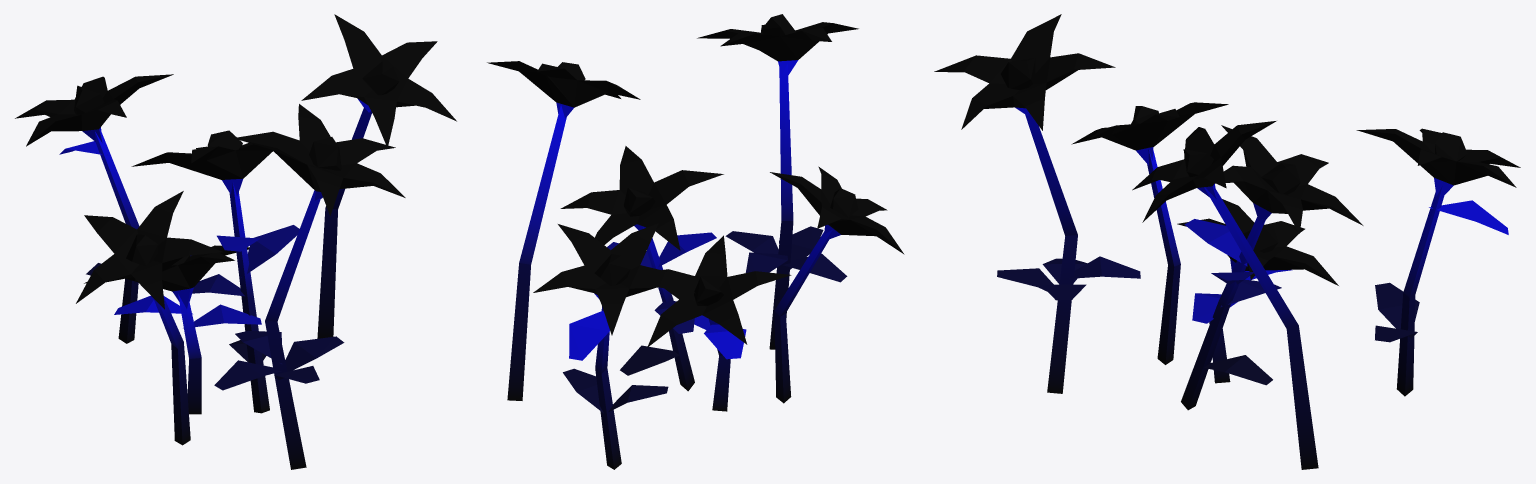
Rendered from PatchSpud05.fbx.
3 views of the same model, side by side, from view 1: azimuth 30°, elevation 25°; view 2: azimuth 150°, elevation 25°; view 3: azimuth 270°, elevation 25° (orthographic). The views are drawn at different scales.
Visible parts, largest first — view 1: PatchSpud05; view 2: PatchSpud05; view 3: PatchSpud05.
Part boxes in pixels (box(x1,y1,x2,y2)): PatchSpud05: box(15, 14, 456, 469); PatchSpud05: box(487, 14, 904, 469); PatchSpud05: box(934, 14, 1520, 469).
Bounding box in the file's own units: 45.56 × 37.14 × 56.63.
